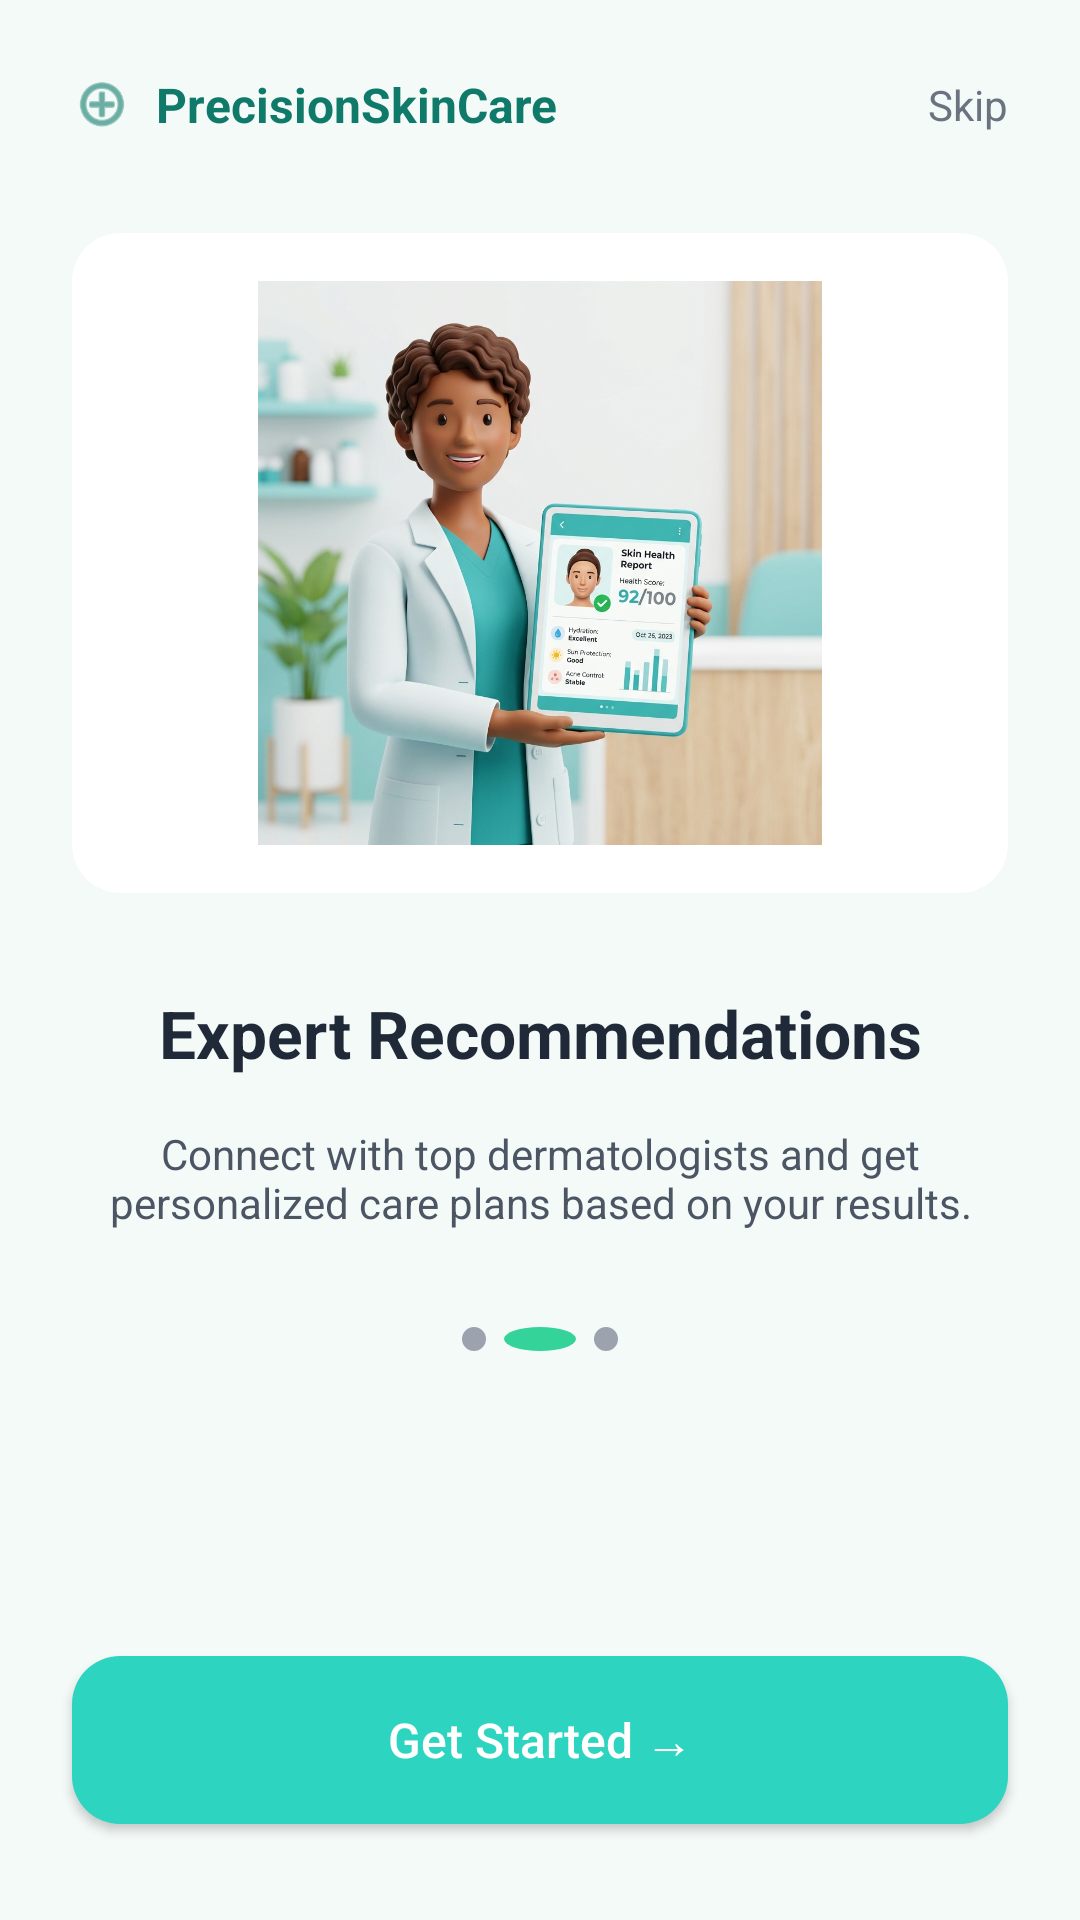

Icon click points for this 1080w x 1920h phone screenshot, format (x=x, y=y):
add: (x=102, y=104)
